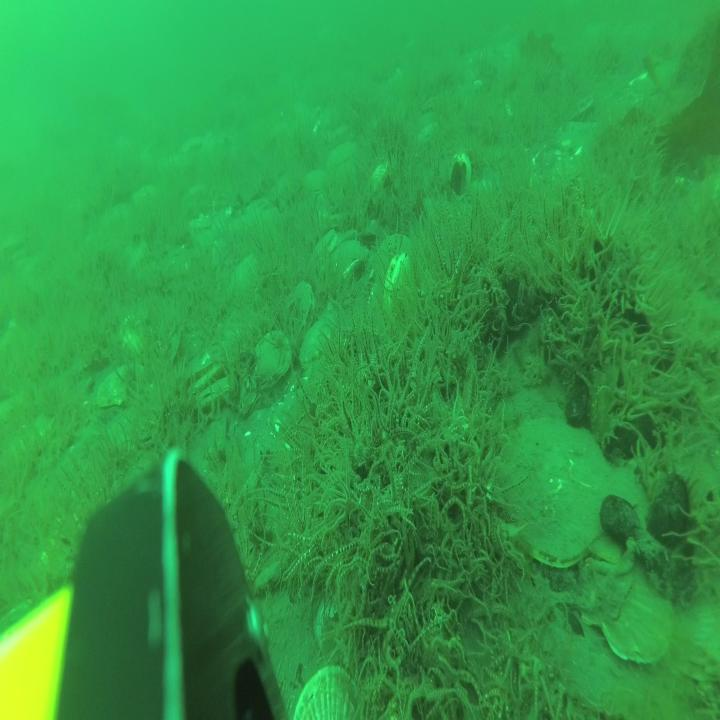scallop: (503, 409, 610, 563), (606, 561, 674, 657), (585, 470, 648, 568), (574, 529, 634, 624), (292, 666, 367, 720), (316, 597, 360, 668), (298, 314, 340, 373), (252, 330, 291, 384), (328, 239, 368, 289), (377, 233, 412, 287), (101, 363, 141, 410), (284, 282, 315, 340), (232, 256, 264, 301), (184, 356, 221, 394), (366, 156, 387, 214), (312, 229, 342, 266), (302, 165, 330, 203), (196, 377, 228, 410), (328, 137, 356, 173)
